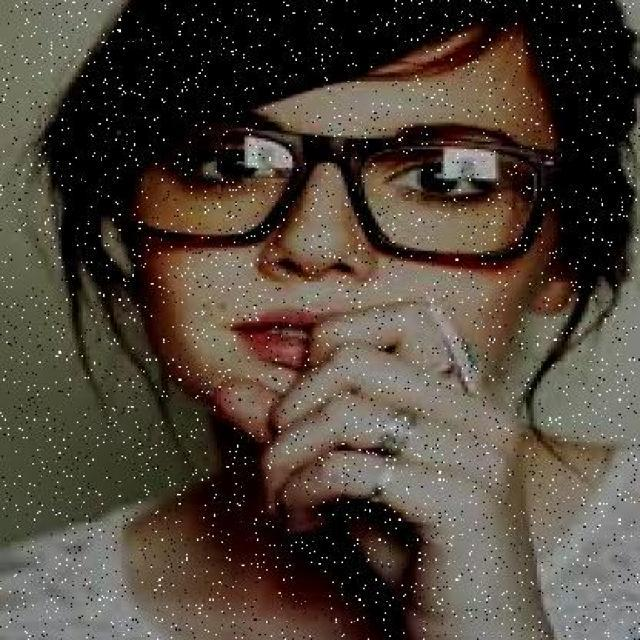glasses: (86, 107, 574, 278)
